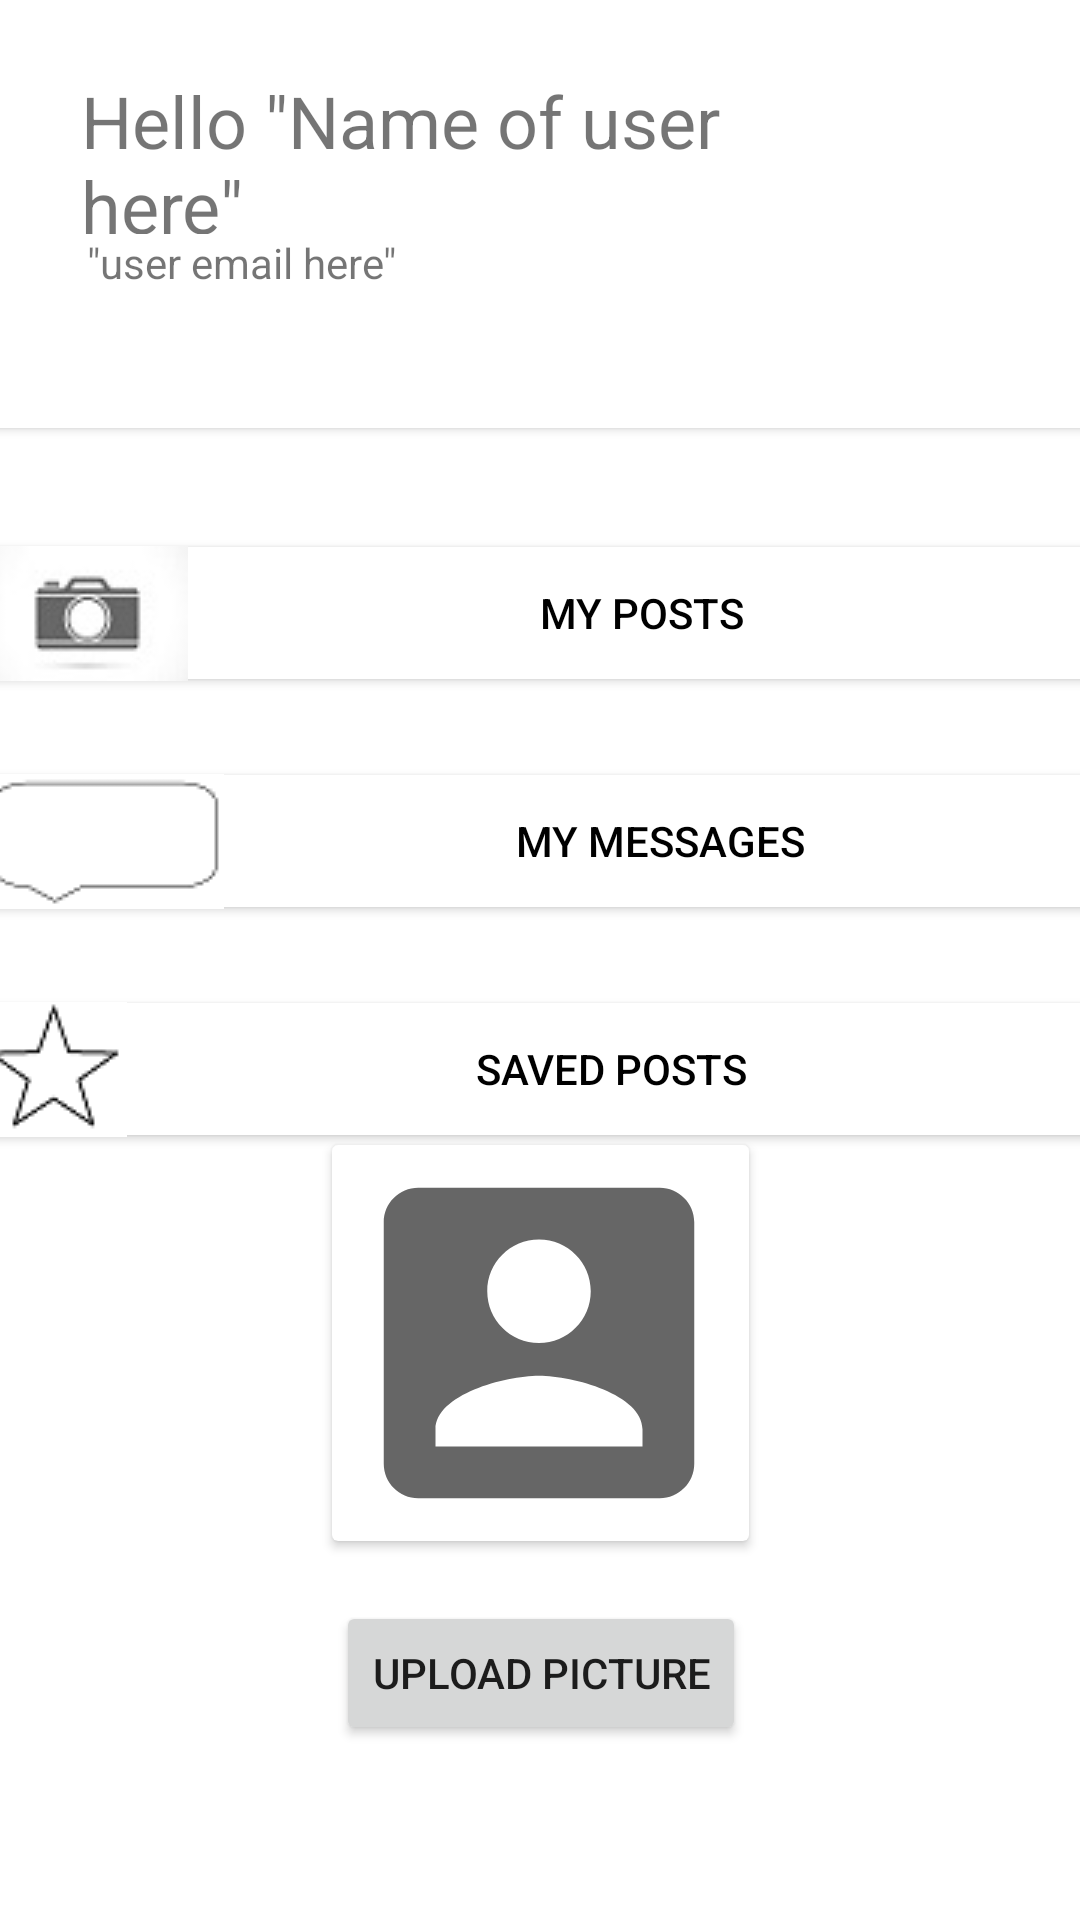

Point at icon controls on the screen. Image size 1080px×1920px, points as (x=x, y=y).
account: (x=539, y=1343)
